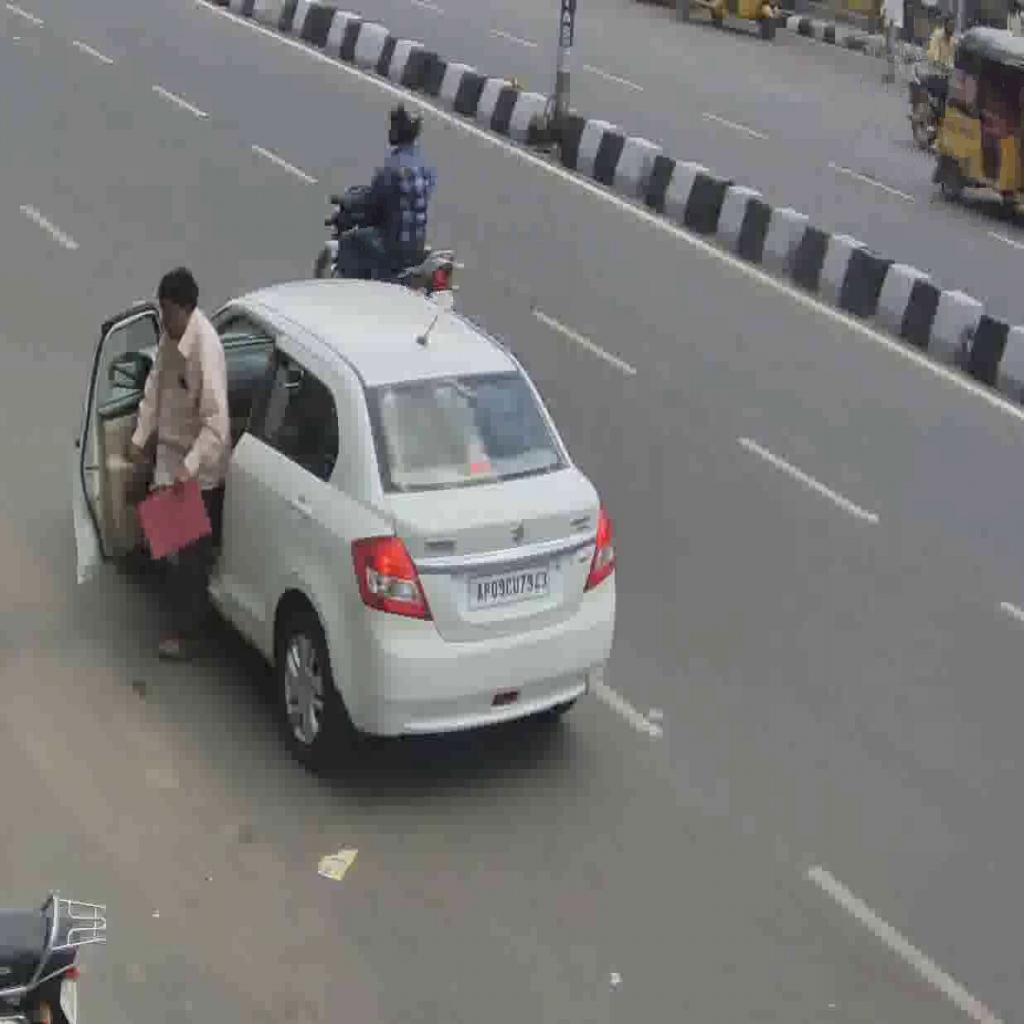helmet: (312, 182, 469, 316)
